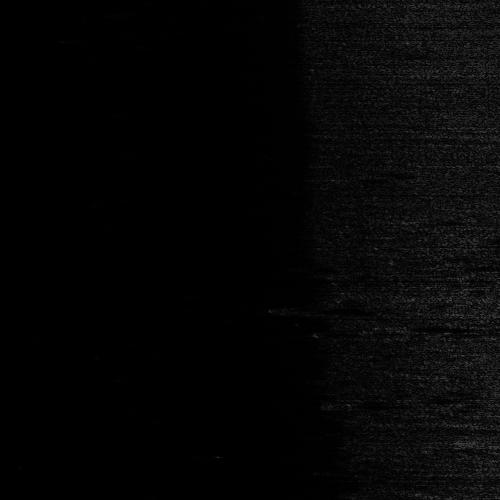rock: (464, 435, 500, 446), (350, 321, 391, 326), (481, 275, 500, 284)
shadow: (371, 321, 483, 326)
